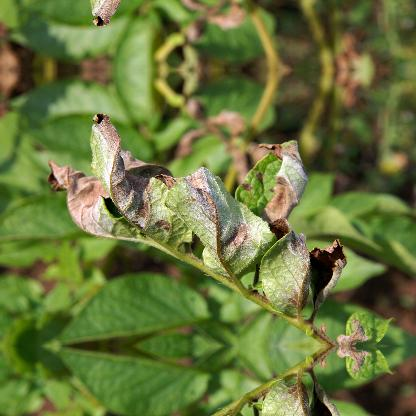Late-Blight: (37, 95, 348, 316)
